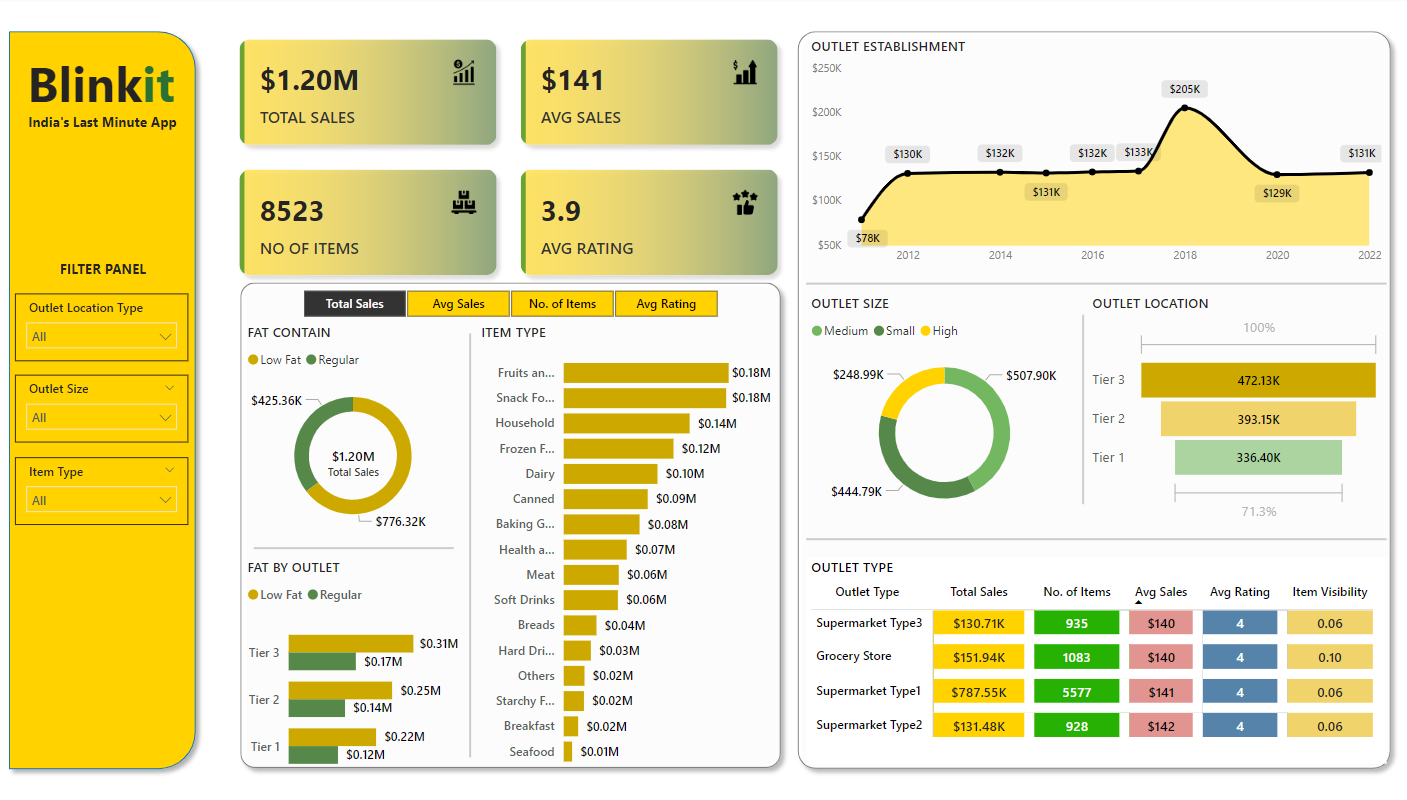

Layout of this report page (visuals, bound fields, positions):
{"tool":"powerbi","page":{"name":"Dashboard","canvas":[1400,800],"ordinal":0},"visuals":[{"type":"shape","box":[0,25.4,203.5,750.4],"z":0},{"type":"textbox","box":[21.1,48.4,157.6,75.7],"z":1000},{"type":"textbox","box":[16.1,110.4,171.2,27.3],"z":1001},{"type":"cardVisual","fields":{"Data":["BlinkIT Grocery Data.Total Sales","BlinkIT Grocery Data.Average Sales","BlinkIT Grocery Data.No. of Items","BlinkIT Grocery Data.Avg Ratings"]},"box":[221.3,25.4,569.8,269.6],"z":1002},{"type":"shape","box":[228.9,276,554.5,499.8],"z":1003},{"type":"donutChart","title":"FAT CONTAIN","fields":{"Category":["BlinkIT Grocery Data.Item Fat Content"],"Y":["BlinkIT Grocery Data.Total Sales"]},"box":[240.7,323.8,219.6,219.6],"z":1004},{"type":"slicer","fields":{"Values":["Metrics.Metrics"]},"box":[276,284.9,460.4,39.4],"z":1005},{"type":"cardVisual","fields":{"Data":["BlinkIT Grocery Data.Total Sales"]},"box":[302.7,431.1,96.7,61],"z":1006},{"type":"clusteredBarChart","title":"FAT BY OUTLET","fields":{"Y":["BlinkIT Grocery Data.Total Sales"],"Category":["BlinkIT Grocery Data.Outlet Location Type"],"Series":["BlinkIT Grocery Data.Item Fat Content"]},"box":[240.7,557.1,219.6,230.8],"z":1007},{"type":"shape","box":[251.8,538,198.4,19.1],"z":1008},{"type":"shape","box":[460.4,334.5,12.7,421],"z":1009},{"type":"barChart","title":"ITEM TYPE","fields":{"Category":["BlinkIT Grocery Data.Item Type"],"Y":["BlinkIT Grocery Data.Total Sales"]},"box":[473.1,324.3,297.6,451.5],"z":1010},{"type":"shape","box":[783.4,25.4,606.7,750.4],"z":1011},{"type":"lineChart","title":"OUTLET ESTABLISHMENT","fields":{"Y":["BlinkIT Grocery Data.Total Sales"],"Category":["BlinkIT Grocery Data.Outlet Establishment Year"]},"box":[800,39.4,576.1,235.3],"z":1012},{"type":"shape","box":[800,279.8,576.1,10.2],"z":1013},{"type":"donutChart","title":"OUTLET SIZE","fields":{"Y":["BlinkIT Grocery Data.Total Sales"],"Category":["BlinkIT Grocery Data.Outlet Size"]},"box":[800,295.1,274.7,231.5],"z":1014},{"type":"shape","box":[1069.6,316.7,11.4,188.2],"z":1015},{"type":"funnel","title":"OUTLET LOCATION","fields":{"Y":["Sum(BlinkIT Grocery Data.Sales)"],"Category":["BlinkIT Grocery Data.Outlet Location Type"]},"box":[1079.8,295.1,296.3,231.5],"z":1016},{"type":"shape","box":[800,534.2,576.1,8.9],"z":1017},{"type":"pivotTable","title":"OUTLET TYPE","fields":{"Rows":["BlinkIT Grocery Data.Outlet Type"],"Values":["BlinkIT Grocery Data.Total Sales","BlinkIT Grocery Data.No. of Items","BlinkIT Grocery Data.Avg Sales","BlinkIT Grocery Data.Avg Ratings","Avg(BlinkIT Grocery Data.Item Visibility)"]},"box":[800,557.1,576.1,204.8],"z":1018},{"type":"slicer","fields":{"Values":["BlinkIT Grocery Data.Outlet Location Type"]},"box":[15.3,295.1,171.7,67.4],"z":1019},{"type":"slicer","fields":{"Values":["BlinkIT Grocery Data.Outlet Size"]},"box":[15.3,376.5,171.7,67.4],"z":1020},{"type":"slicer","fields":{"Values":["BlinkIT Grocery Data.Item Type"]},"box":[15.3,457.9,171.7,67.4],"z":1021},{"type":"textbox","box":[48.4,265.5,103,28.5],"z":1022}]}

Visuals, with their boxes in screenshot pixels (x1, y1, x2, y2), scaled from the page's 1400x800 canvas onto the 1407x800 screenshot:
shape: bbox=[0, 25, 205, 776]
textbox: bbox=[21, 48, 180, 124]
textbox: bbox=[16, 110, 188, 138]
cardVisual - BlinkIT Grocery Data.Total Sales x BlinkIT Grocery Data.Average Sales: bbox=[222, 25, 795, 295]
shape: bbox=[230, 276, 787, 776]
"FAT CONTAIN" donutChart: bbox=[242, 324, 463, 543]
slicer - Metrics.Metrics: bbox=[277, 285, 740, 324]
cardVisual - BlinkIT Grocery Data.Total Sales: bbox=[304, 431, 401, 492]
"FAT BY OUTLET" clusteredBarChart: bbox=[242, 557, 463, 788]
shape: bbox=[253, 538, 452, 557]
shape: bbox=[463, 334, 475, 756]
"ITEM TYPE" barChart: bbox=[475, 324, 775, 776]
shape: bbox=[787, 25, 1397, 776]
"OUTLET ESTABLISHMENT" lineChart: bbox=[804, 39, 1383, 275]
shape: bbox=[804, 280, 1383, 290]
"OUTLET SIZE" donutChart: bbox=[804, 295, 1080, 527]
shape: bbox=[1075, 317, 1086, 505]
"OUTLET LOCATION" funnel: bbox=[1085, 295, 1383, 527]
shape: bbox=[804, 534, 1383, 543]
"OUTLET TYPE" pivotTable: bbox=[804, 557, 1383, 762]
slicer - BlinkIT Grocery Data.Outlet Location Type: bbox=[15, 295, 188, 362]
slicer - BlinkIT Grocery Data.Outlet Size: bbox=[15, 376, 188, 444]
slicer - BlinkIT Grocery Data.Item Type: bbox=[15, 458, 188, 525]
textbox: bbox=[49, 266, 152, 294]
